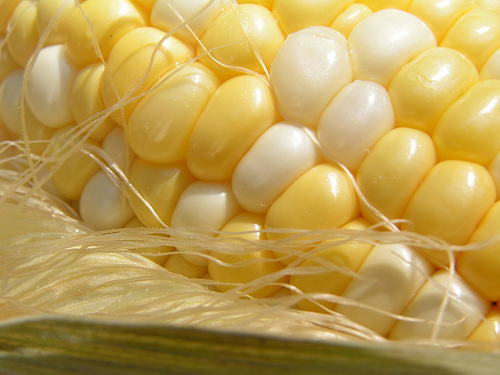corn: (0, 0, 499, 353)
